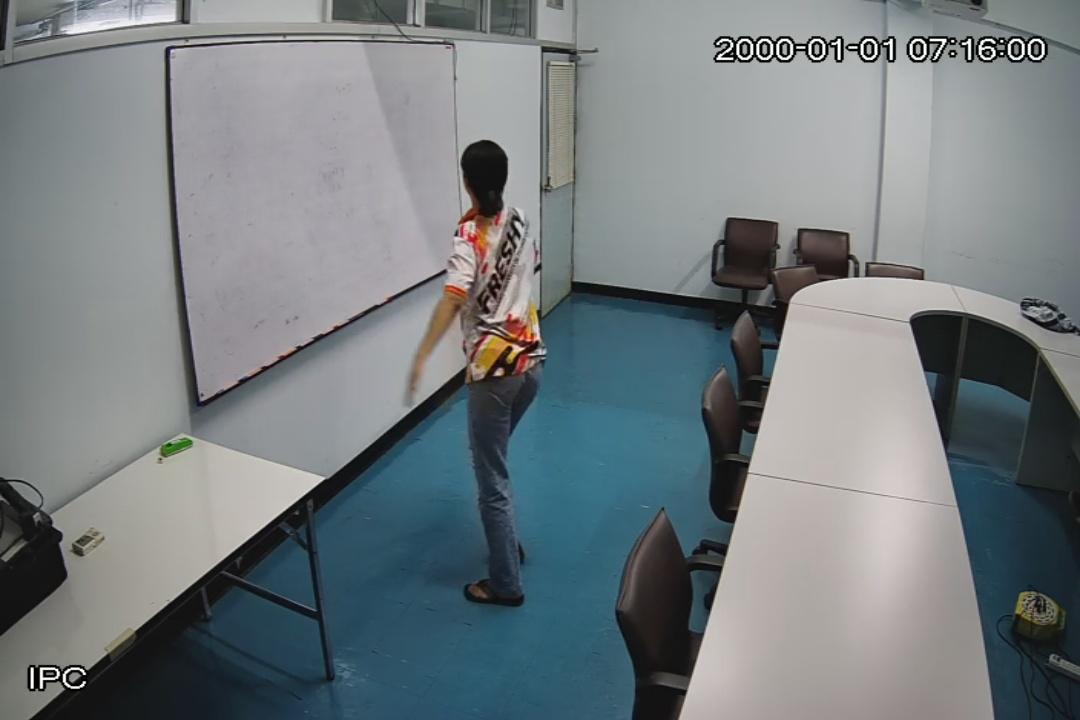normal: (405, 137, 545, 603)
